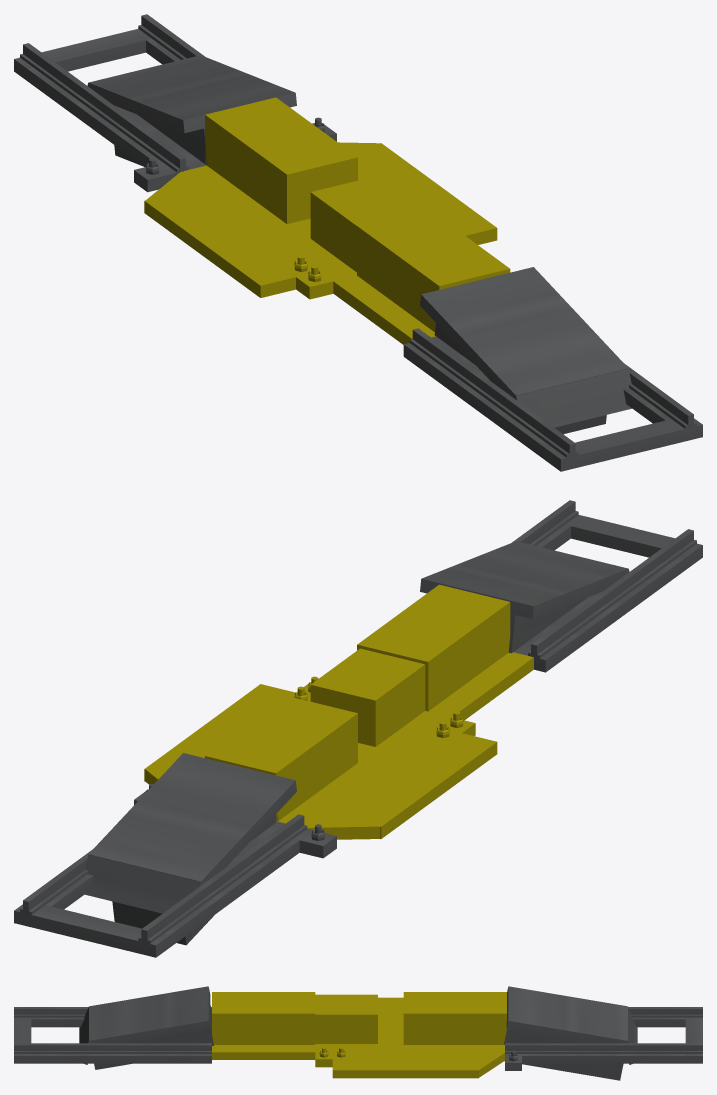
The model's file is aws.obj.
3 renders of one model, top to bottom at view 1: azimuth 30°, elevation 25°; view 2: azimuth 150°, elevation 25°; view 3: azimuth 270°, elevation 25°, orthographic. The views are drawn at different scales.
Parts seen in each view (by area): view 1: cube; view 2: cube; view 3: cube.
Boxes of the visible parts, box(x1,y1,x2,y2) form: cube: box(14, 14, 702, 471); cube: box(14, 500, 702, 957); cube: box(14, 986, 702, 1080).
Bounding box in the file's own units: 1.25 × 0.5368 × 5.
Materials: 2 (2 with a texture image).
